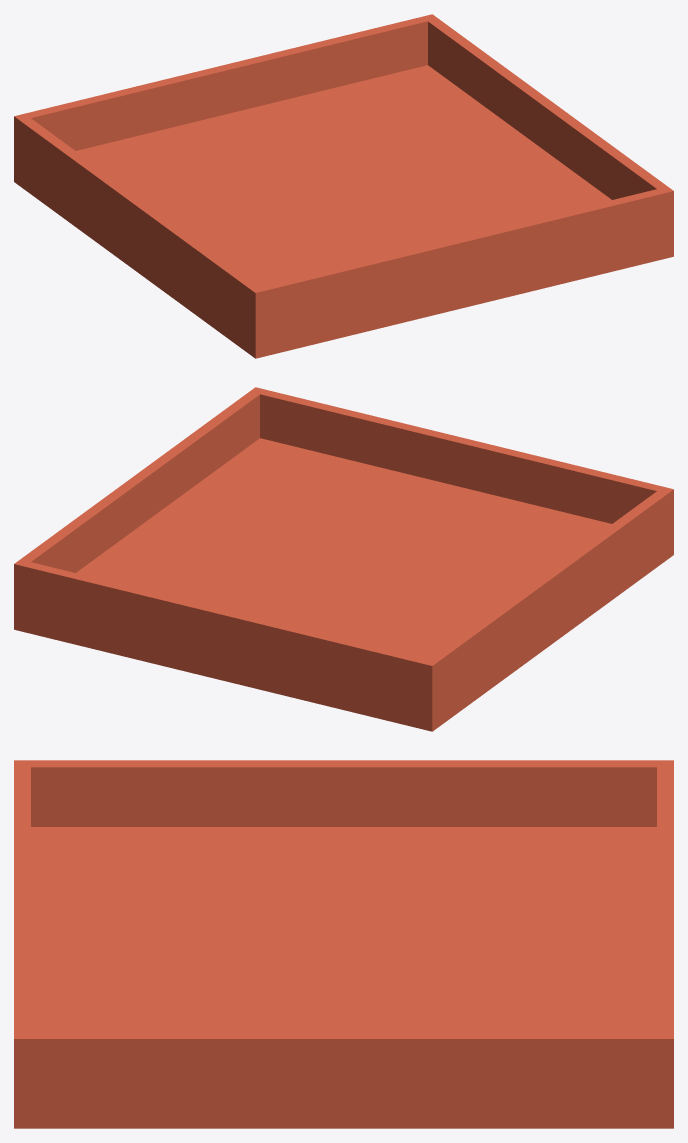
File: Board.gltf
3 renders of one model, top to bottom at view 1: azimuth 30°, elevation 25°; view 2: azimuth 150°, elevation 25°; view 3: azimuth 270°, elevation 25°, orthographic. The views are drawn at different scales.
Parts seen in each view (by area): view 1: Board; view 2: Board; view 3: Board.
Boxes of the visible parts, x1,y1,x2,y2 form: Board: [14, 14, 673, 358]; Board: [14, 387, 673, 731]; Board: [14, 760, 673, 1128].
Bounding box in the file's own units: 2 × 0.3 × 2.
